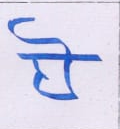e_matra: (7, 14, 80, 53)
